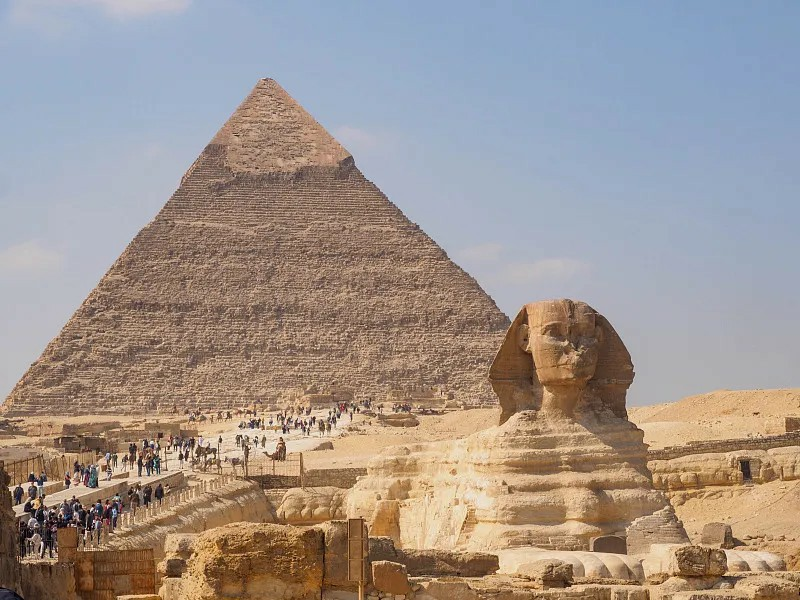Pyramid: (1, 75, 513, 415)
